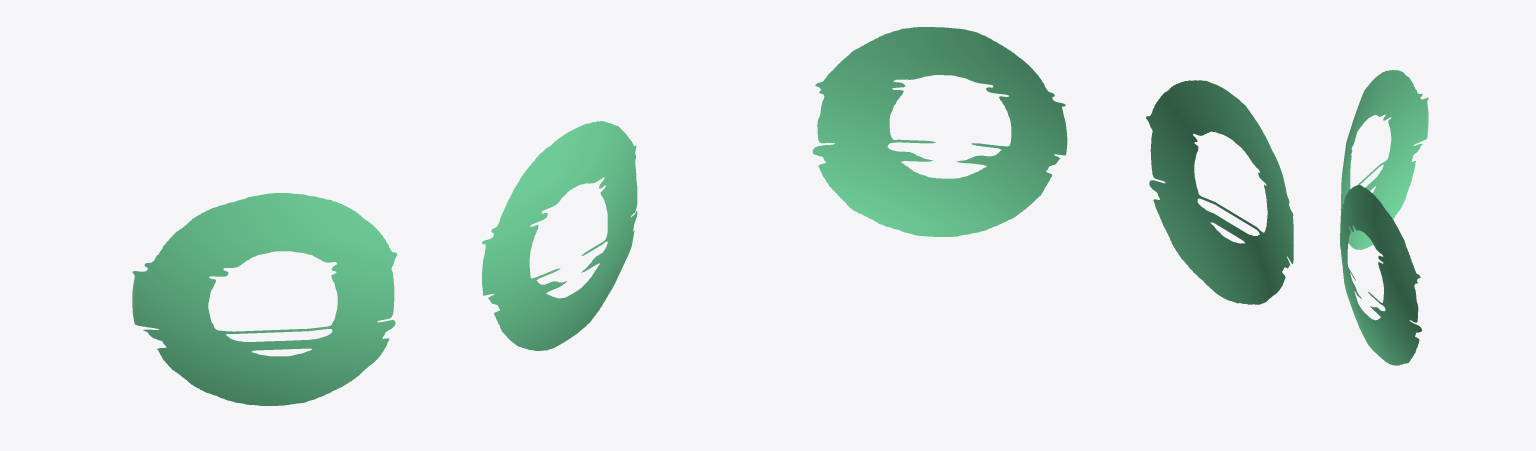
Rendered from OORobot Face.fbx.
The picture shows the model from 3 angles, left to right: view 1: azimuth 30°, elevation 25°; view 2: azimuth 150°, elevation 25°; view 3: azimuth 270°, elevation 25°; orthographic projection. The views are drawn at different scales.
Parts seen in each view (by area): view 1: OO Robot; view 2: OO Robot; view 3: OO Robot.
Part boxes in pixels (x1,y1,x2,y2): OO Robot: (132,121,637,405); OO Robot: (812,27,1293,304); OO Robot: (1340,70,1428,365).
Bounding box in the file's own units: 55.82 × 21.21 × 18.19.
